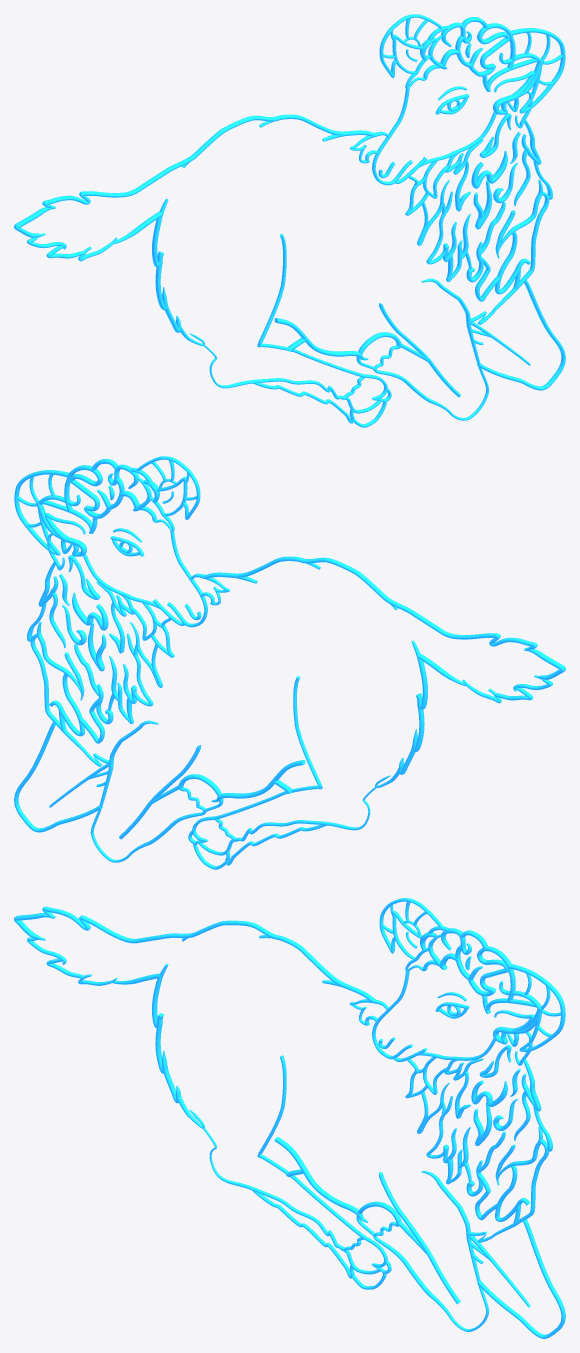
File: aries-constellation-dhazele-2.glb
The picture shows the model from 3 angles, top to bottom: view 1: azimuth 30°, elevation 25°; view 2: azimuth 150°, elevation 25°; view 3: azimuth 330°, elevation 25°; orthographic projection.
Visible parts, largest first — view 1: BezierCurve.001; view 2: BezierCurve.001; view 3: BezierCurve.001.
Boxes of the visible parts, <box> form: BezierCurve.001: <box>14,14,565,427</box>; BezierCurve.001: <box>14,456,565,869</box>; BezierCurve.001: <box>14,898,565,1338</box>.
Size of the model in its own units: 4.24 by 3.08 by 0.0536.
